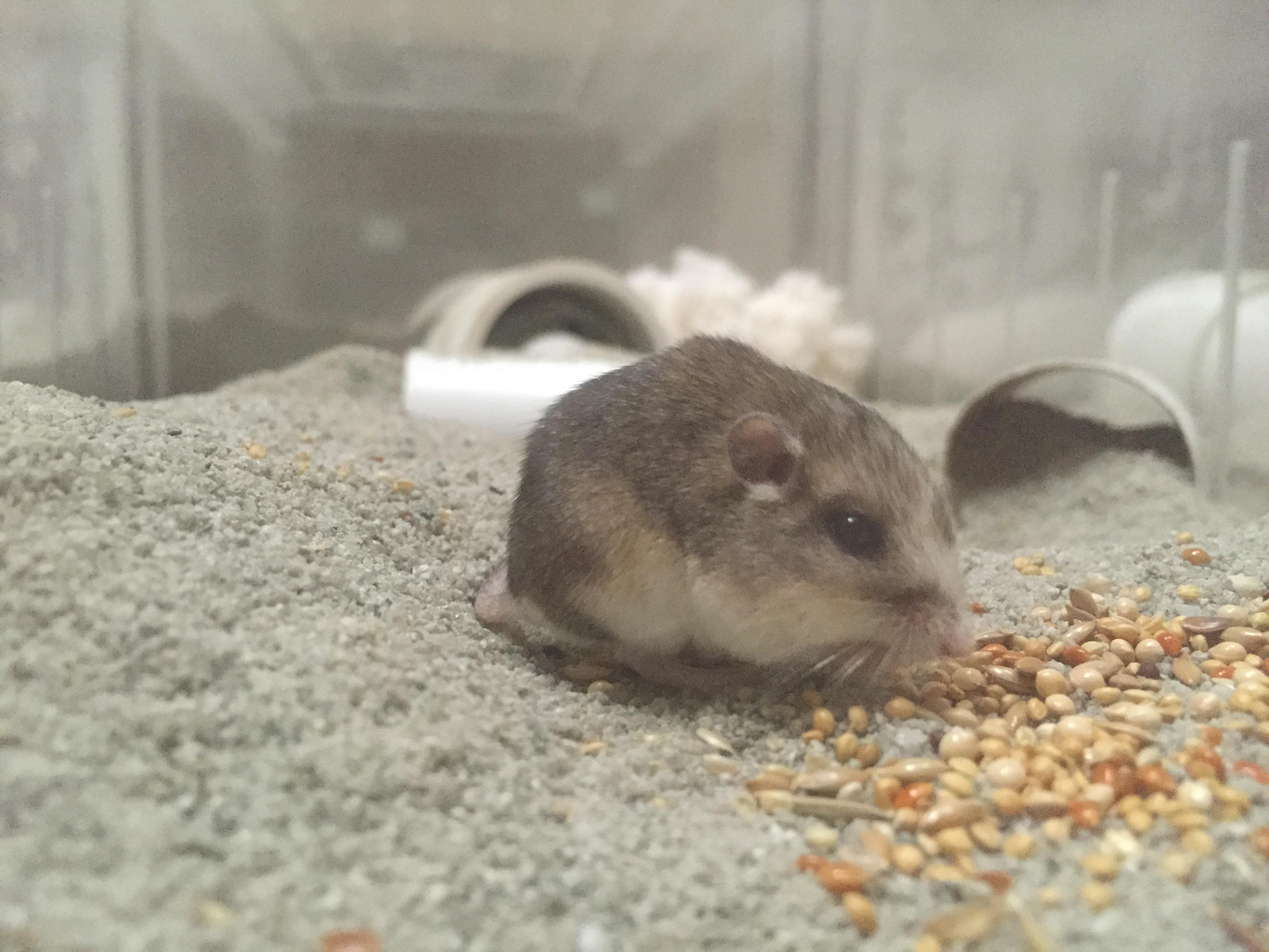rat: (475, 332, 980, 689)
